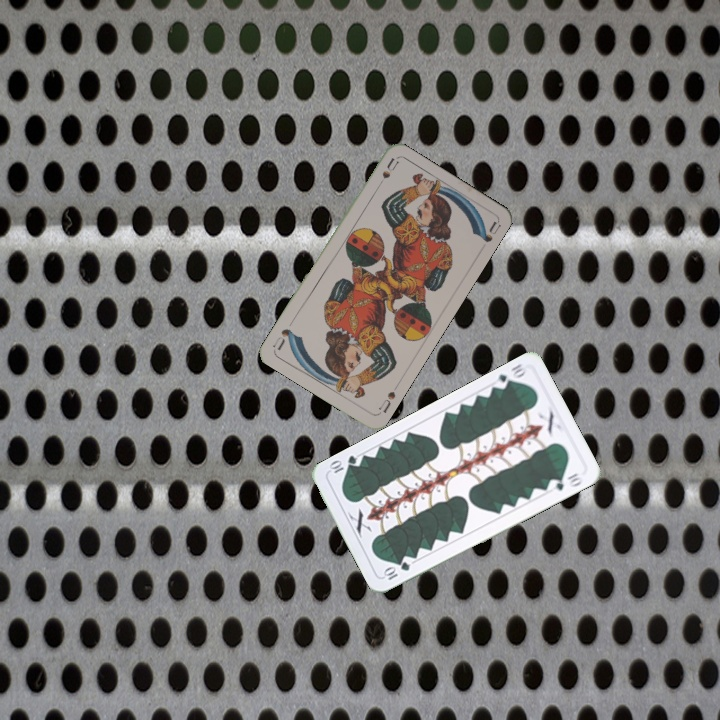G10: (490, 360, 530, 392), (379, 558, 413, 583)
SU: (378, 154, 401, 182), (375, 387, 398, 415)
